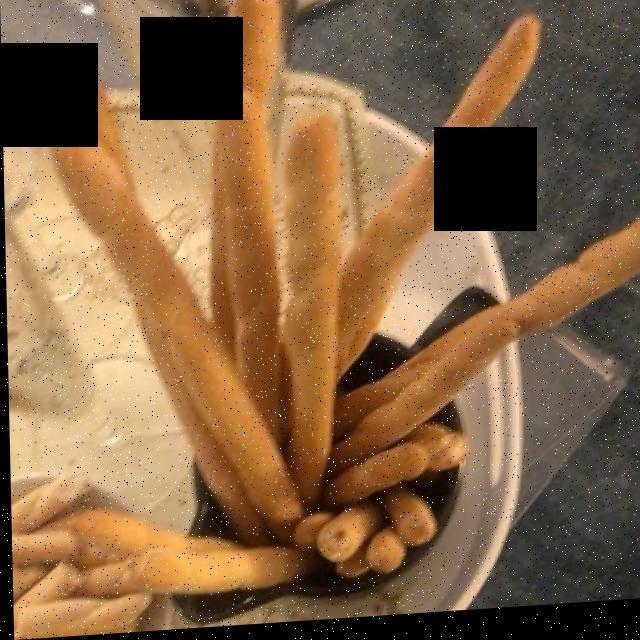grissini: (53, 0, 640, 603)
